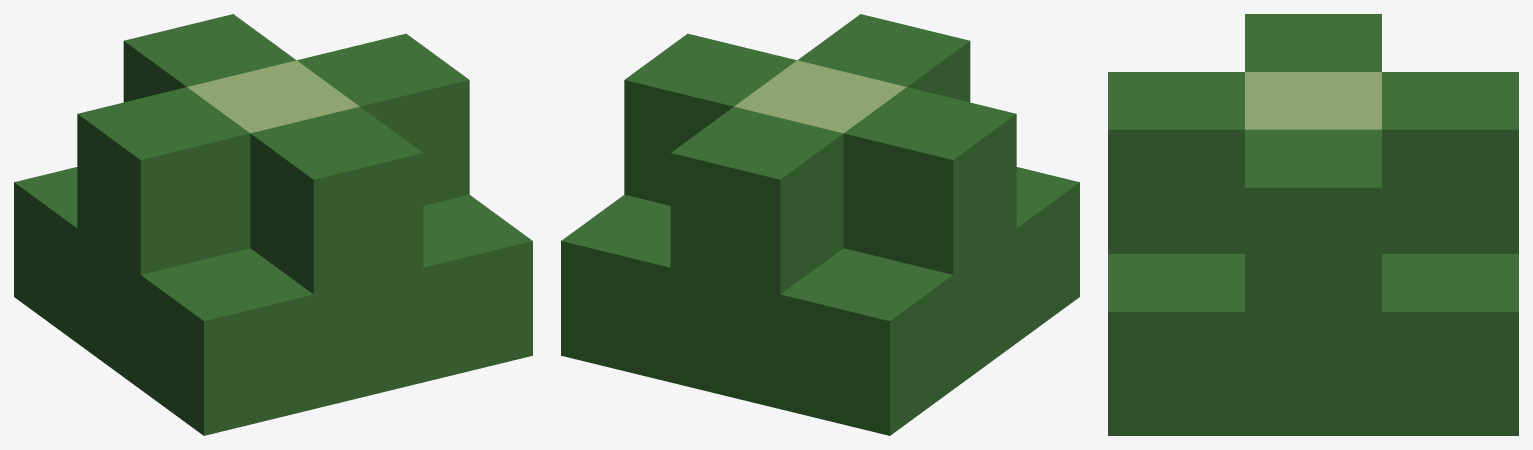
File: farm-35-cauliflower_growth2.obj
3 views of the same model, side by side, from view 1: azimuth 30°, elevation 25°; view 2: azimuth 150°, elevation 25°; view 3: azimuth 270°, elevation 25° (orthographic). The views are drawn at different scales.
Parts seen in each view (by area): view 1: cauliflower_growth2; view 2: cauliflower_growth2; view 3: cauliflower_growth2.
Part boxes in pixels (x1,y1,x2,y2): cauliflower_growth2: (14,14,532,435); cauliflower_growth2: (561,14,1079,435); cauliflower_growth2: (1108,14,1518,435).
Bounding box in the file's own units: 0.3 × 0.2 × 0.3.
Materials: 1 (1 with a texture image).
